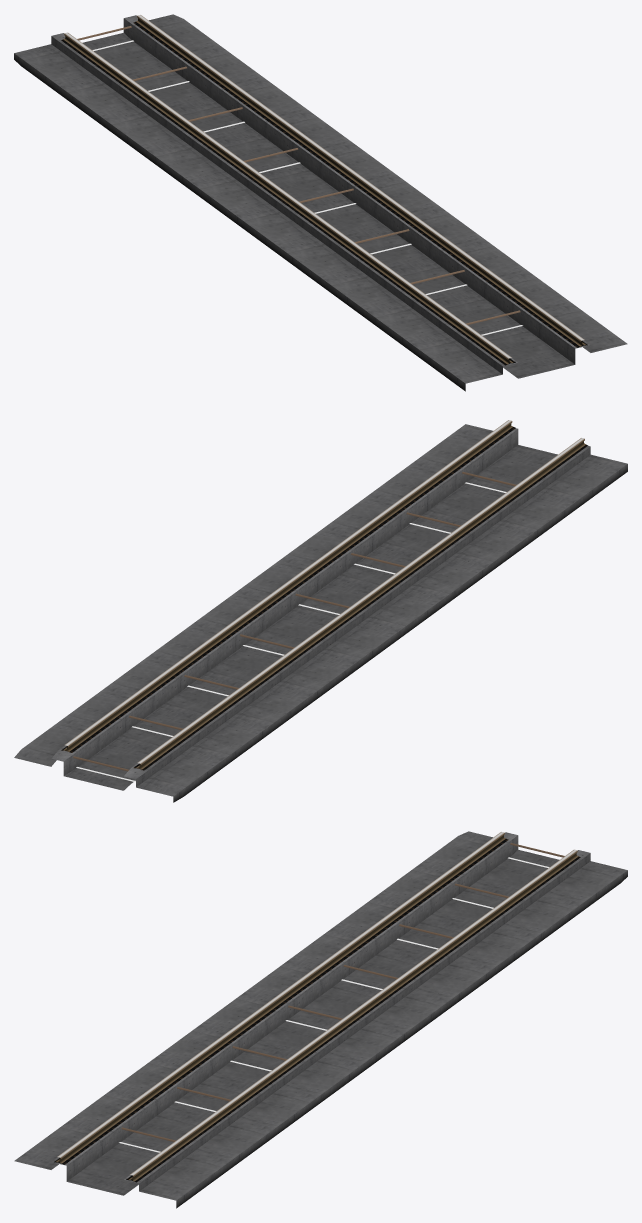
Rendered from KQ_1RAIL_YOKO50.glb.
3 renders of one model, top to bottom at view 1: azimuth 30°, elevation 25°; view 2: azimuth 150°, elevation 25°; view 3: azimuth 330°, elevation 25°, orthographic.
Visible parts, largest first — view 1: R4; view 2: R4; view 3: R4.
Part boxes in pixels (bbox=[...]): R4: bbox=[14, 14, 627, 391]; R4: bbox=[14, 420, 627, 802]; R4: bbox=[14, 831, 627, 1208].
Bounding box in the file's own units: 10.55 × 1.4 × 51.
20 materials, 11 textured.
